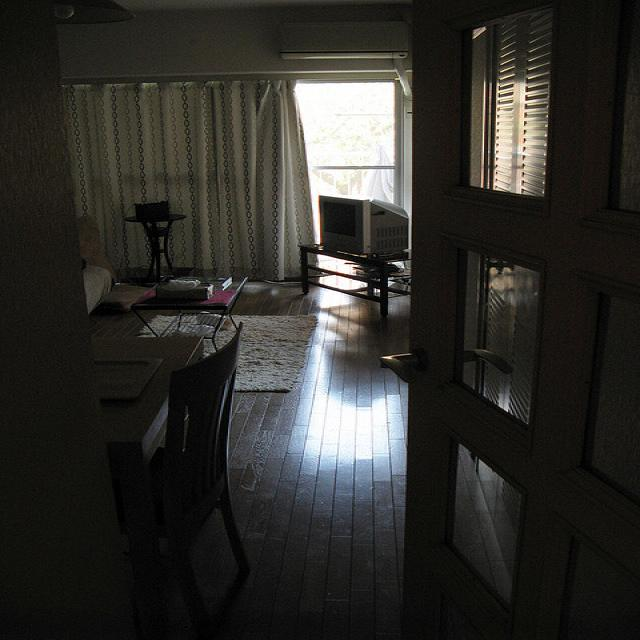chair: (125, 322, 255, 628)
dining table: (92, 337, 203, 638), (131, 274, 247, 353)
